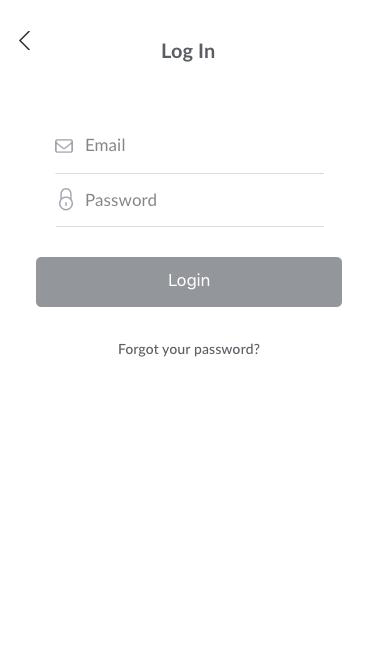EditText: (56, 187, 325, 228), (55, 138, 325, 175)
Icon: (59, 187, 74, 212), (55, 138, 74, 154), (19, 31, 33, 51)
Text: (119, 343, 261, 358), (162, 43, 215, 63), (86, 194, 157, 208), (86, 138, 125, 152)
TextButton: (36, 257, 342, 308)
